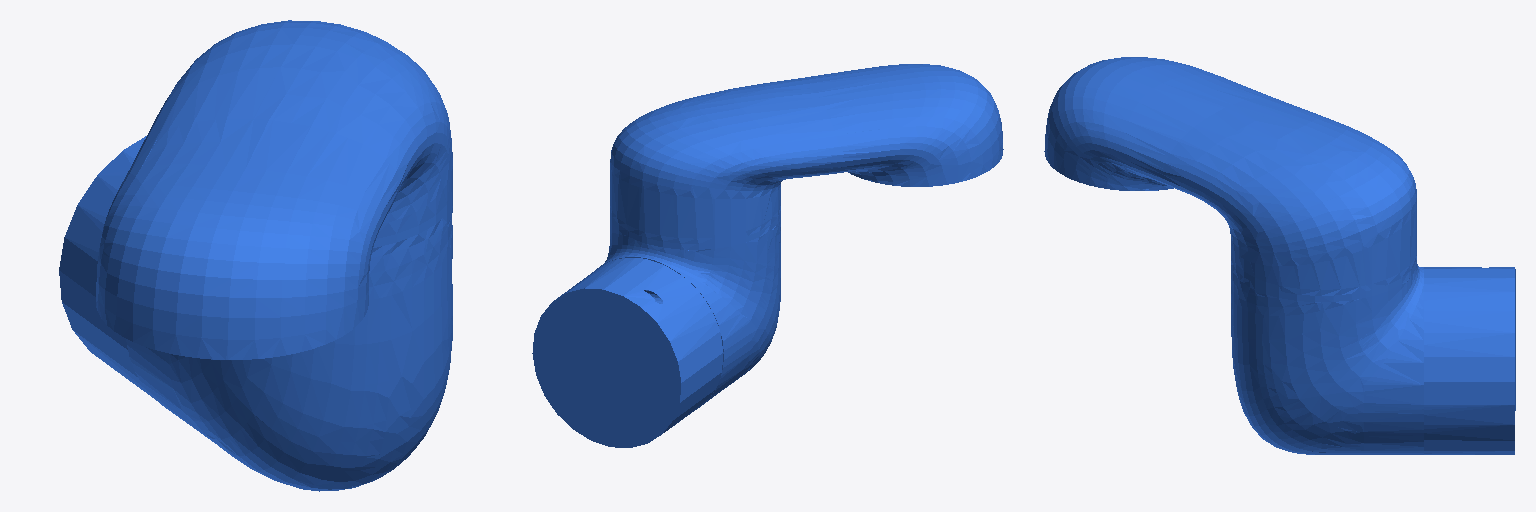
robot.urdf — xarm6_link3:
<?xml version="1.0" encoding="utf-8"?>
<!-- =================================================================================== -->
<!-- |    This document was autogenerated by xacro from xarm6_robot.urdf.xacro         | -->
<!-- |    EDITING THIS FILE BY HAND IS NOT RECOMMENDED                                 | -->
<!-- =================================================================================== -->
<robot name="xarm6_link3">
  <!--
  Author: Jason Peng <jason@ufactory.cc>
  Contributors:
-->
  <gazebo>
    <plugin filename="libgazebo_ros_control.so" name="gazebo_ros_control">
      <robotNamespace>/xarm</robotNamespace>
      <!-- <controlPeriod>0.0001</controlPeriod> -->
      <robotSimType>gazebo_ros_control/DefaultRobotHWSim</robotSimType>
      <legacyModeNS>true</legacyModeNS>
      <!-- <preserveWorldVelocity>true</preserveWorldVelocity> -->
    </plugin>
  </gazebo>
  <link name="world"/>
  <joint name="world_joint" type="fixed">
    <parent link="world"/>
    <child link="link3"/>
    <origin rpy="0 0 0" xyz="0 0 0"/>
  </joint>
  <material name="Black">
    <color rgba="0.0 0.0 0.0 1.0"/>
  </material>
  <material name="Red">
    <color rgba="0.85 0.19  0.21 1.0"/>
  </material>
  <material name="Blue">
    <color rgba="0.28 0.52 0.92 1.0"/>
  </material>
  <material name="Green">
    <color rgba="0.23 0.72 0.32 1.0"/>
  </material>
  <material name="Yellow">
    <color rgba="0.95 0.76 0.05 1.0"/>
  </material>
  <material name="White">
    <color rgba="1.0 1.0 1.0 1.0"/>
  </material>
  <material name="Silver">
    <color rgba="0.753 0.753 0.753 1.0"/>
  </material>
  <link name="link3">
    <visual>
      <geometry>
        <mesh filename="package://xarm_description/meshes/xarm6/visual/link3.stl"/>
      </geometry>
      <origin rpy="0 0 0" xyz="-0.06781 -0.10749 -0.01457"/>
      <material name="Blue"/>
    </visual>
    <collision>
      <geometry>
        <mesh filename="package://xarm_description/meshes/xarm6/collision/link3_vhacd.obj"/>
      </geometry>
      <origin rpy="0 0 0" xyz="-0.06781 -0.10749 -0.01457"/>
    </collision>
    <inertial>
      <origin rpy="0 0 0" xyz="0 0 0"/>
      <mass value="1.384"/>
      <inertia ixx="0.0053694" ixy="0.0014185" ixz="-0.00092094" iyy="0.0032423" iyz="-0.00169178" izz="0.00501731"/>
    </inertial>
  </link>

</robot>

--- Facts derived from the render (not from the file) ---
The picture shows the robot from 3 angles, left to right: view 1: azimuth 30°, elevation 25°; view 2: azimuth 150°, elevation 25°; view 3: azimuth 270°, elevation 25°; orthographic projection.
Model xarm6_link3 with 2 links and 1 joints (1 fixed), rooted at world, posed all joints at 0.
Links seen in each view (by area): view 1: link3; view 2: link3; view 3: link3.
Link boxes in pixels (box(x1,y1,x2,y2)): link3: box(59, 20, 452, 491); link3: box(532, 64, 1003, 447); link3: box(1044, 57, 1515, 454).
Bounding box of the posed robot: 0.1623 × 0.2114 × 0.1489 m (x, y, z).
Meshes: 1 distinct files referenced, 1 mesh visuals loaded (1 binary STL).
